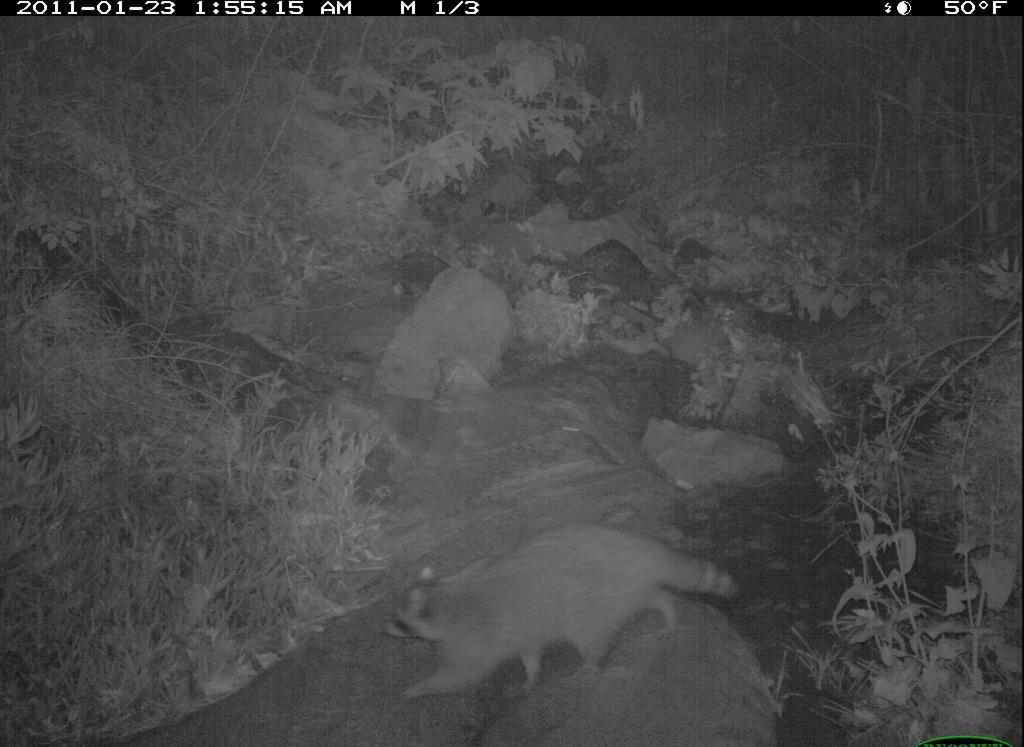raccoon: (379, 523, 733, 701)
